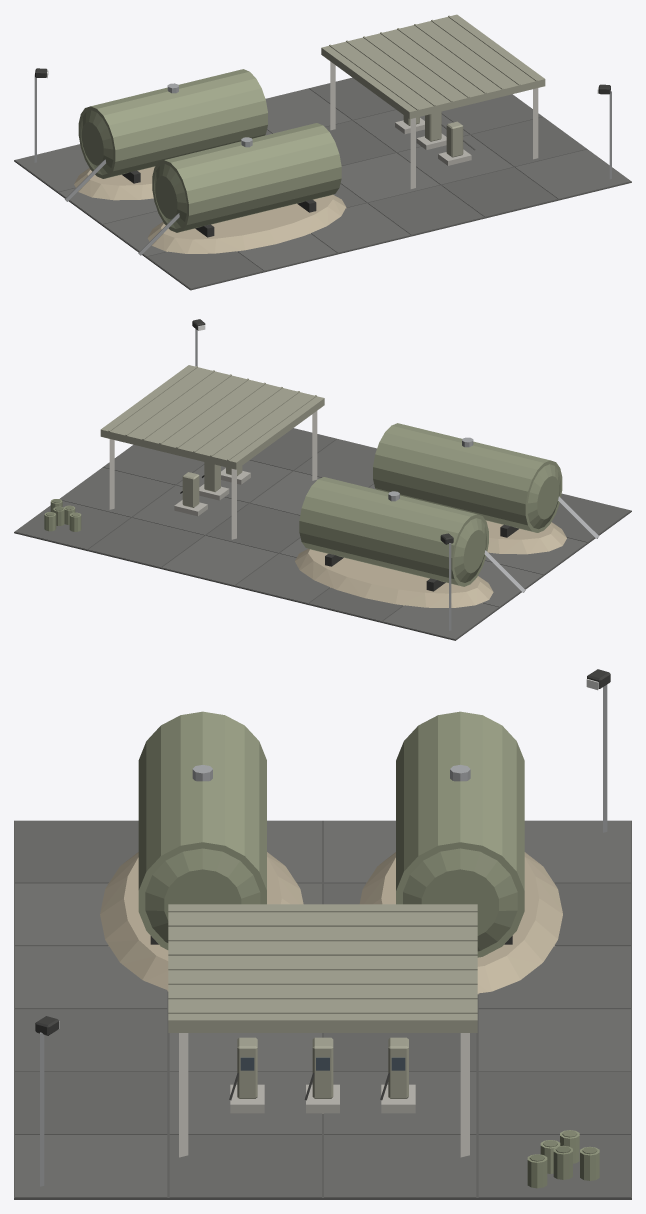
Rendered from b_fuel.glb.
3 renders of one model, top to bottom at view 1: azimuth 30°, elevation 25°; view 2: azimuth 150°, elevation 25°; view 3: azimuth 270°, elevation 25°, orthographic. The views are drawn at different scales.
Parts seen in each view (by area): view 1: hull; view 2: hull; view 3: hull.
Part boxes in pixels (x1,y1,x2,y2): hull: (14,14,631,290); hull: (14,319,631,640); hull: (14,669,631,1199).
Bounding box in the file's own units: 26.56 × 5.28 × 18.
